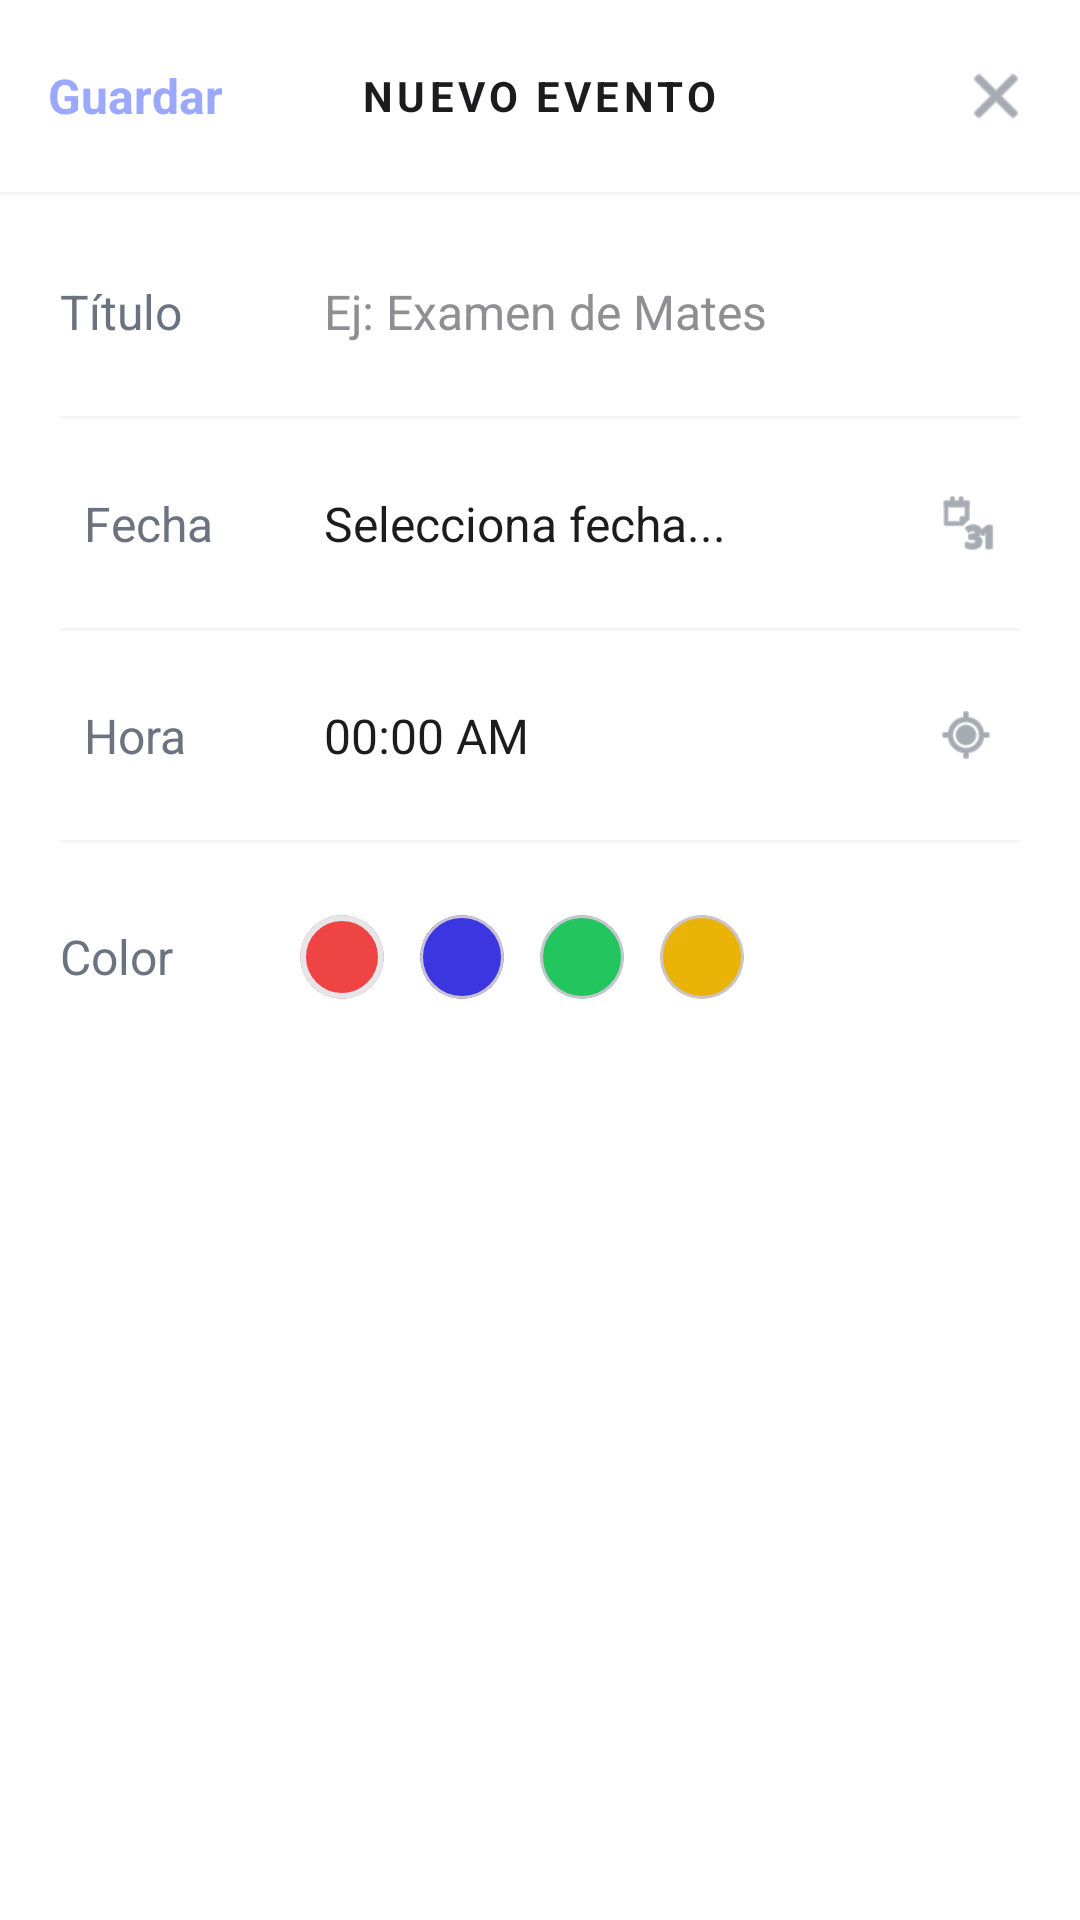

Icons on this 1080 x 1920 Android screen, each with its box as box(x1, y1, x2, y2):
close clear cancel: box(974, 74, 1018, 118)
month: box(943, 496, 993, 550)
mylocation: box(942, 711, 990, 759)
